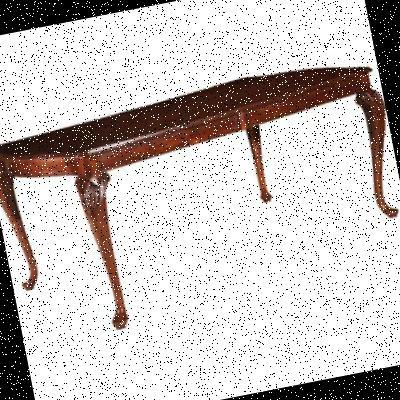Mesa: (0, 50, 399, 347)
